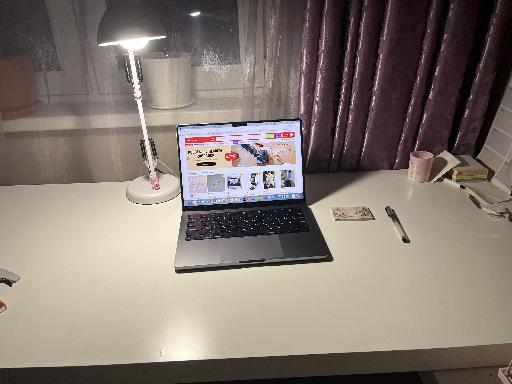aliexpress: (181, 130, 298, 199)
